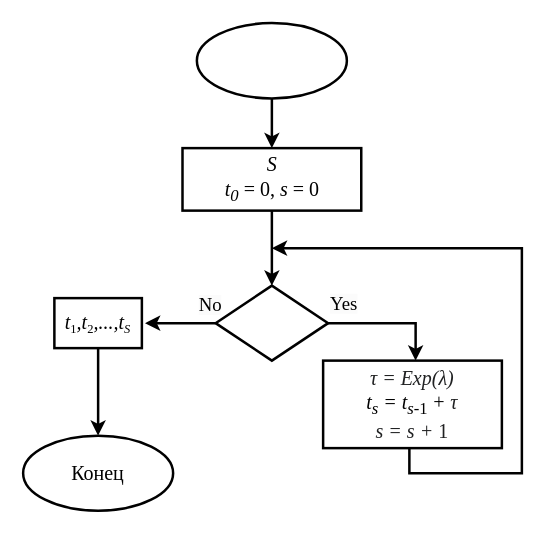
The diagram is 554 pixels wide and 533 high, and some of its shapes have lost their labels. Each missing label, with the box of its shape:
s ≤ S: (214, 284, 329, 361)
Начало: (195, 21, 348, 99)
